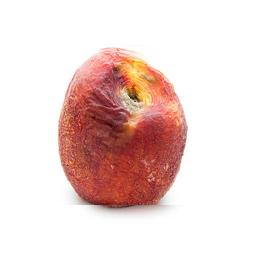Peach Rotten: (55, 47, 198, 205)
